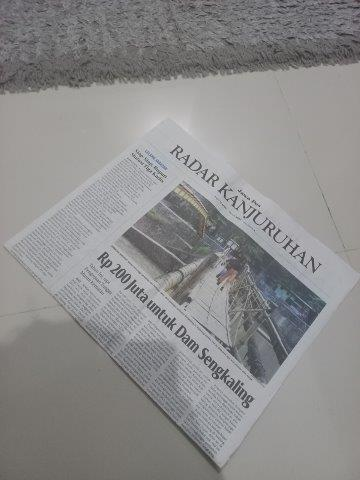kertas: (7, 120, 360, 470)
